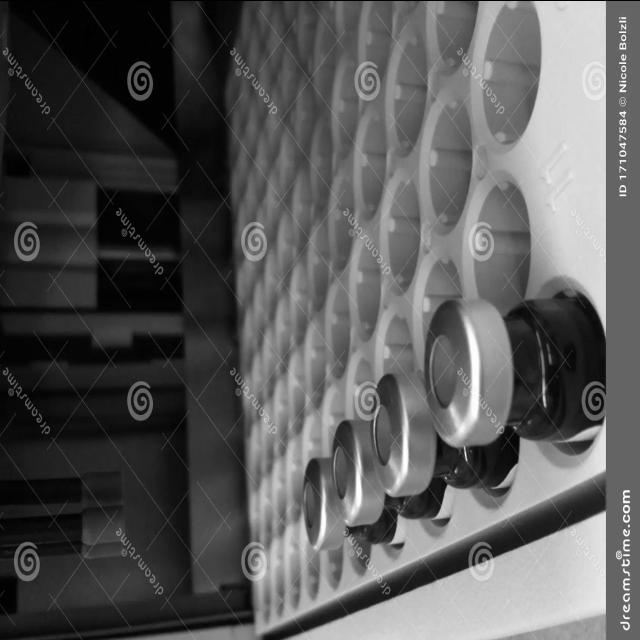vial: (430, 309, 479, 443), (378, 364, 420, 490), (340, 422, 366, 516), (302, 454, 324, 550)
